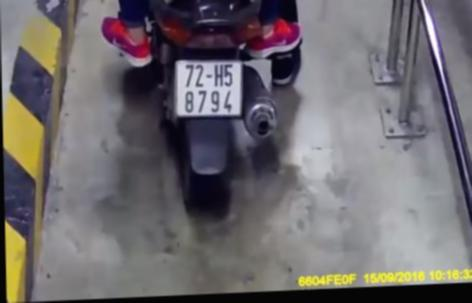License_Plate: (167, 49, 248, 128)
